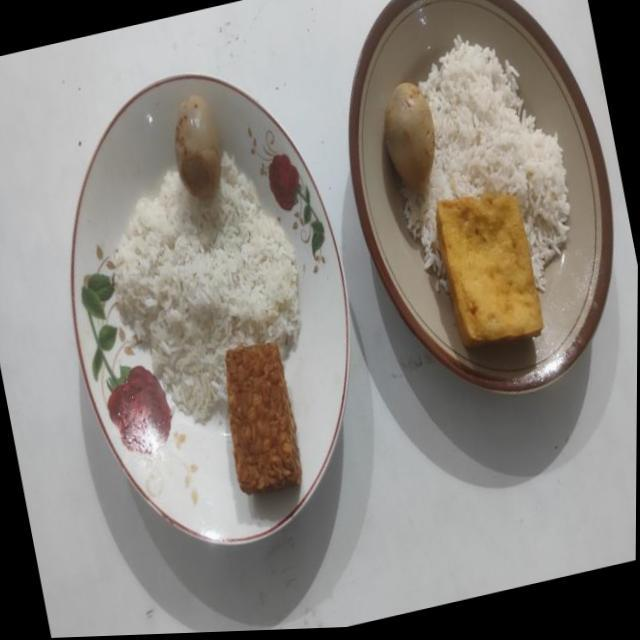nasi_putih: (114, 156, 300, 422), (402, 35, 570, 292)
tahu_goreng: (436, 194, 544, 346)
tempe_goreng: (226, 344, 302, 494)
